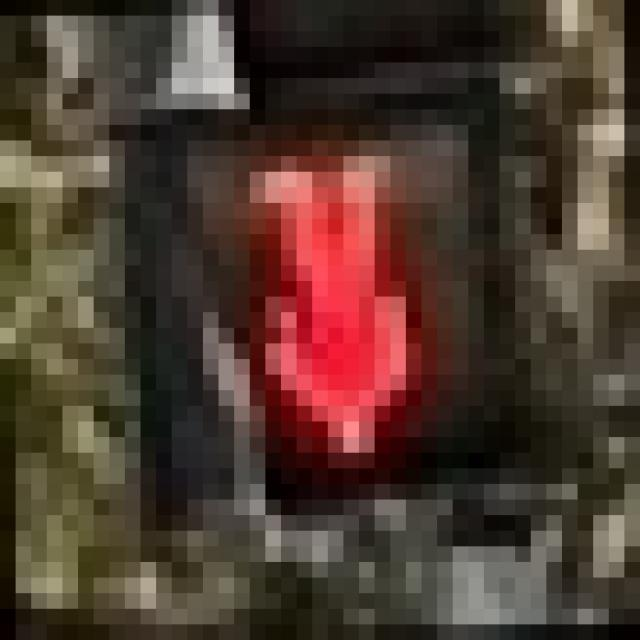red-crossing: (140, 78, 452, 515)
